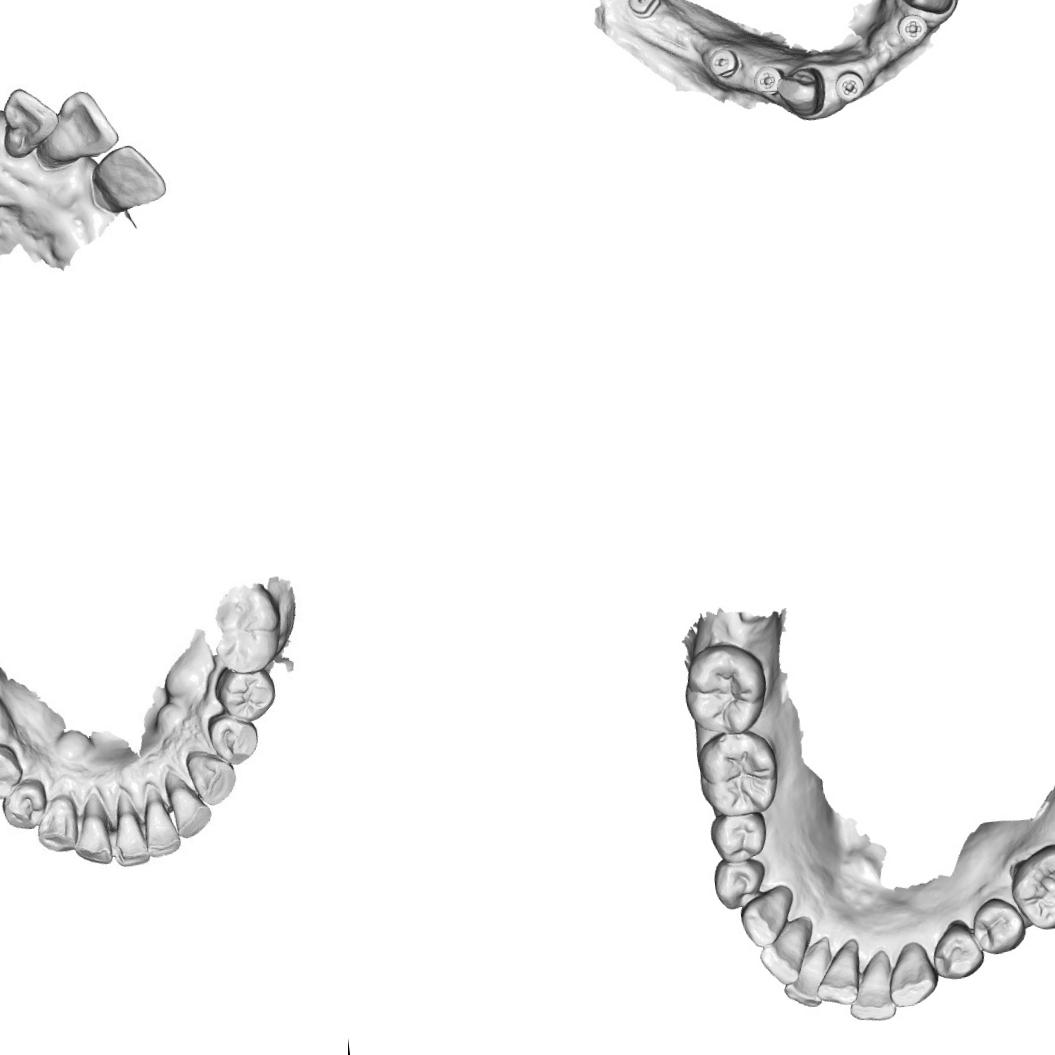canine: (882, 937, 941, 1010), (736, 882, 798, 950), (183, 743, 240, 809), (774, 64, 827, 120), (31, 796, 79, 857), (897, 0, 955, 18)
implant: (625, 0, 662, 20)
implant_minus: (705, 44, 745, 82)
implant_plus: (832, 69, 867, 104), (751, 63, 784, 98), (896, 12, 929, 46)
incisor: (39, 83, 122, 168), (82, 138, 171, 215), (0, 82, 63, 163), (777, 936, 839, 1010), (755, 922, 817, 989), (812, 938, 868, 1008), (845, 954, 900, 1022), (164, 769, 213, 840), (104, 802, 152, 872), (68, 801, 116, 869), (138, 792, 184, 858)
molar: (688, 725, 784, 823), (678, 640, 772, 740), (208, 586, 286, 676), (1004, 838, 1055, 934)
premolar: (926, 918, 985, 984), (213, 668, 279, 725), (707, 809, 770, 868), (970, 894, 1028, 958), (710, 854, 768, 914), (205, 711, 262, 766), (0, 781, 47, 832), (0, 742, 23, 802)
